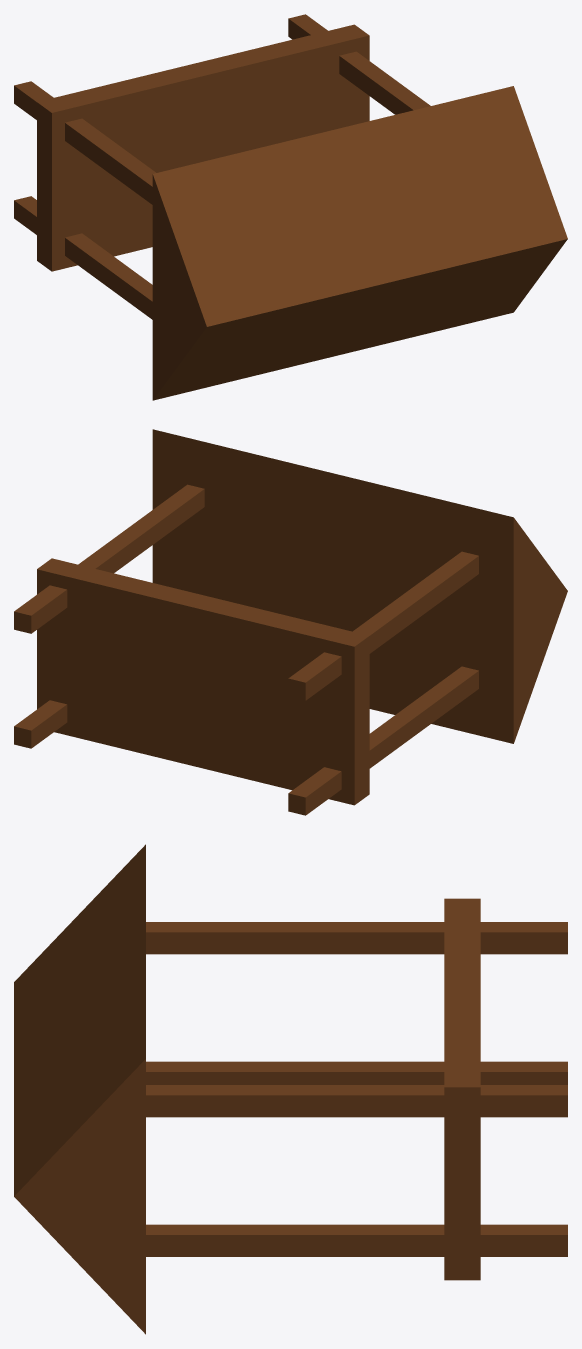
The model's file is SM_ShMarketStall.obj.
3 renders of one model, top to bottom at view 1: azimuth 30°, elevation 25°; view 2: azimuth 150°, elevation 25°; view 3: azimuth 270°, elevation 25°, orthographic. The views are drawn at different scales.
Bounding box in the file's own units: 250 × 150 × 273.
